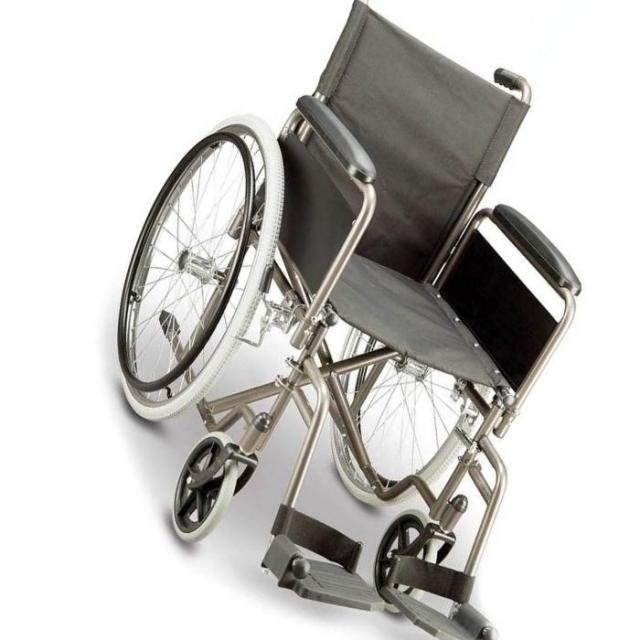wheelchair: (110, 0, 584, 640)
